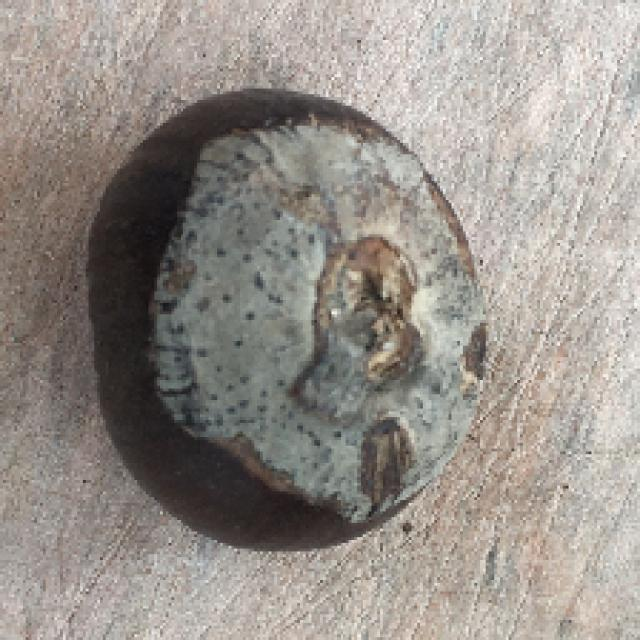damagedHazelnut: (78, 78, 505, 566)
